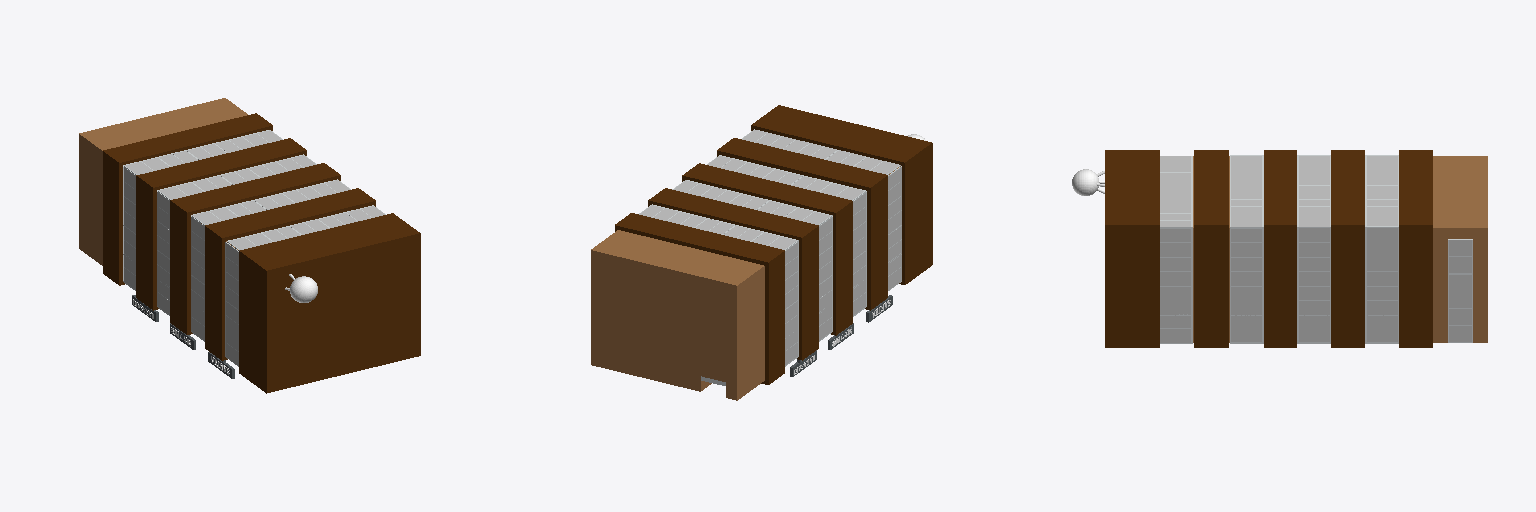
Rendered from tinker 22.obj.
The picture shows the model from 3 angles: view 1: azimuth 30°, elevation 25°; view 2: azimuth 150°, elevation 25°; view 3: azimuth 270°, elevation 25°; orthographic projection.
Visible parts, largest first — view 1: obj_86, obj_85, obj_4, obj_3, obj_2, obj_1, obj_87; view 2: obj_85, obj_86, obj_4, obj_1, obj_3, obj_2; view 3: obj_86, obj_85, obj_4, obj_1, obj_2, obj_3, obj_15, obj_64, obj_46, obj_47, obj_81, obj_13 (+18 smaller).
Boxes of the visible parts, x1=… form: obj_86: x1=239, y1=213, x2=420, y2=393; obj_85: x1=79, y1=98, x2=247, y2=265; obj_4: x1=205, y1=188, x2=375, y2=360; obj_3: x1=170, y1=163, x2=340, y2=334; obj_2: x1=136, y1=138, x2=306, y2=310; obj_1: x1=103, y1=113, x2=272, y2=285; obj_87: x1=290, y1=276, x2=317, y2=302; obj_85: x1=591, y1=166, x2=900, y2=400; obj_86: x1=751, y1=105, x2=932, y2=284; obj_4: x1=717, y1=138, x2=887, y2=310; obj_1: x1=615, y1=213, x2=784, y2=384; obj_3: x1=682, y1=163, x2=852, y2=335; obj_2: x1=648, y1=188, x2=818, y2=360; obj_86: x1=1105, y1=150, x2=1159, y2=347; obj_85: x1=1193, y1=156, x2=1487, y2=342; obj_4: x1=1194, y1=150, x2=1228, y2=347; obj_1: x1=1399, y1=150, x2=1432, y2=347; obj_2: x1=1331, y1=150, x2=1364, y2=347; obj_3: x1=1264, y1=150, x2=1296, y2=347; obj_15: x1=1365, y1=286, x2=1398, y2=315; obj_64: x1=1230, y1=257, x2=1263, y2=286; obj_46: x1=1297, y1=286, x2=1330, y2=315; obj_47: x1=1297, y1=257, x2=1330, y2=286; obj_81: x1=1160, y1=228, x2=1192, y2=257; obj_13: x1=1365, y1=257, x2=1398, y2=285.
Bounding box in the file's own units: 42 × 35.5 × 98.26.